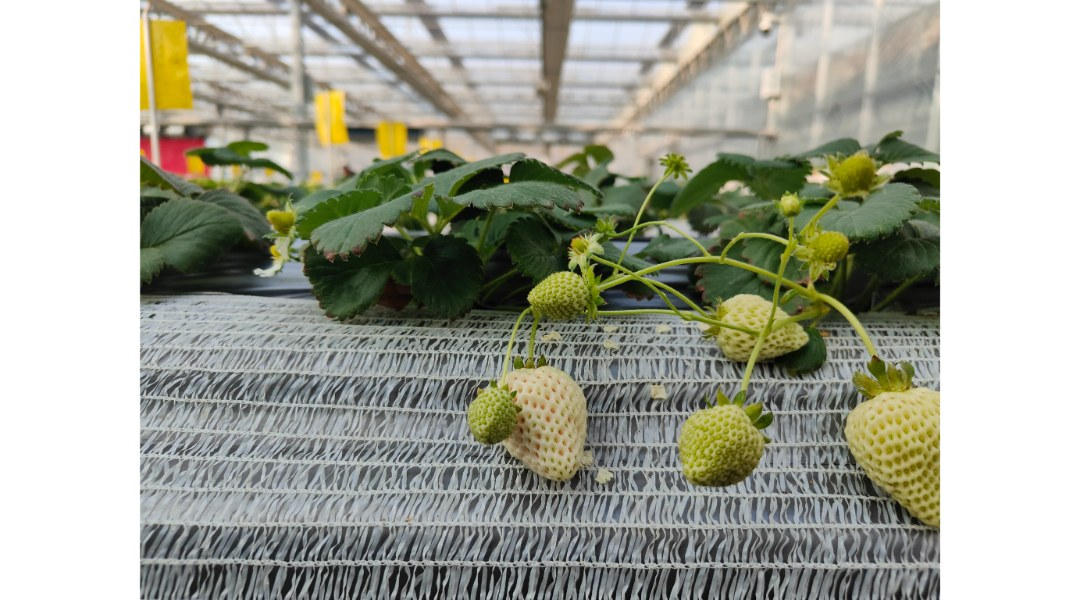berry: (838, 365, 968, 536), (494, 367, 591, 490), (669, 390, 768, 494), (696, 290, 817, 367), (517, 270, 606, 332), (818, 149, 887, 200), (465, 388, 520, 449), (791, 225, 855, 276), (570, 225, 606, 263)
strain: (620, 248, 708, 286), (836, 291, 878, 367), (739, 260, 778, 281)
